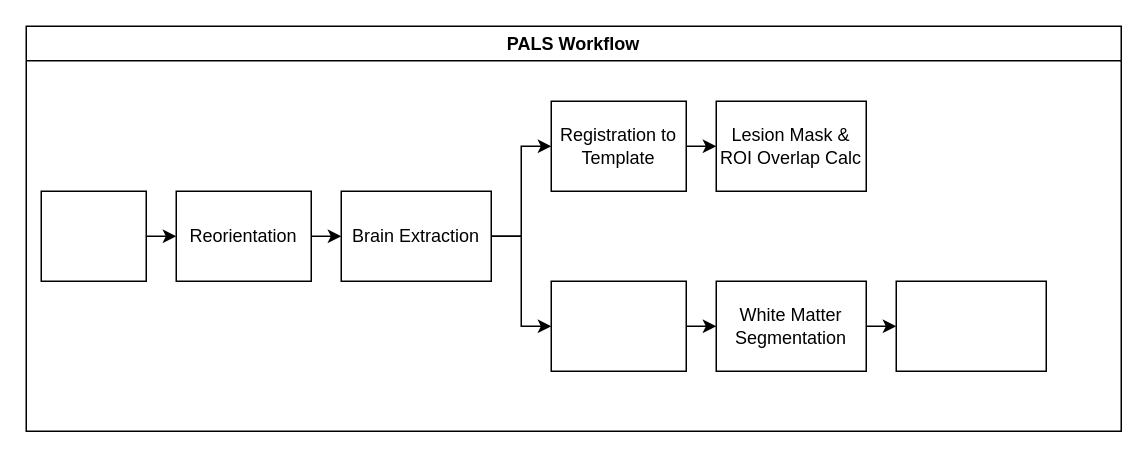
Some shapes in this 1148 by 458 pixel diagram are drawn without their labels. The centre of each missing label's shape, as x and y in pixels:
"BIDS Data Loader" goes at pixel 93 235.
"Image Intensity Rescaling" goes at pixel 618 325.
"White Matter Lesion Correction" goes at pixel 970 325.
